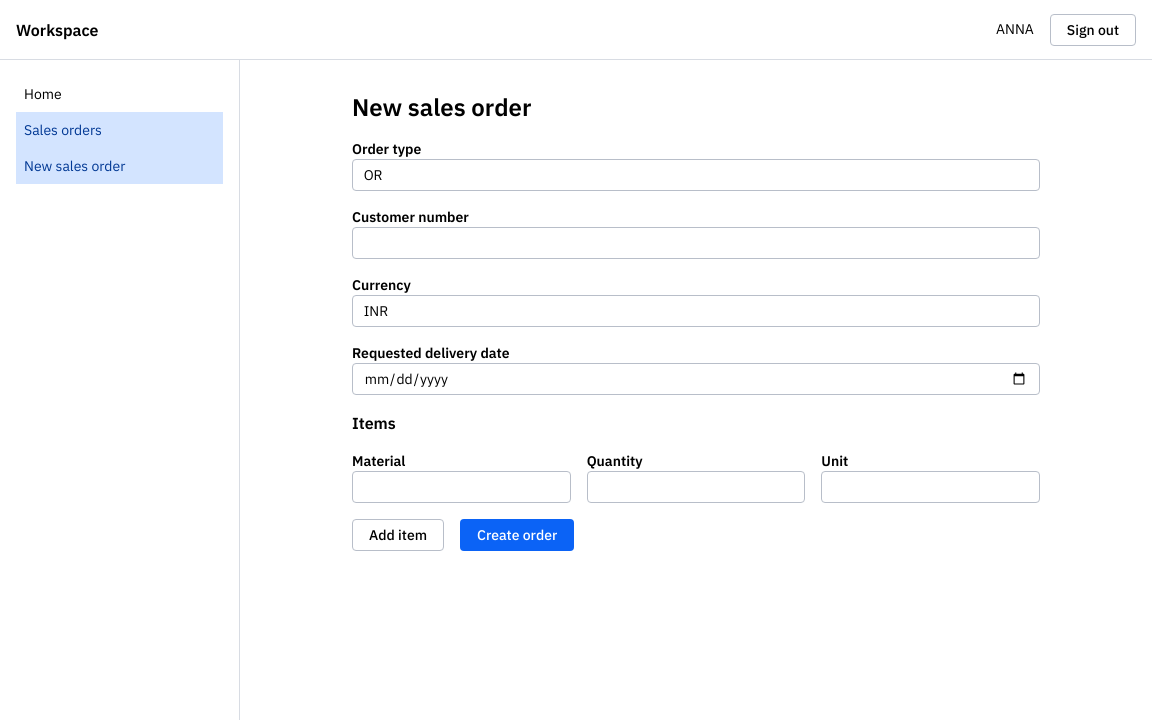
Test: validation errors › places messages on fields and in the alert, and clears them on resubmit
Click the button "Add item" at (398, 535), box [352,519,444,551]
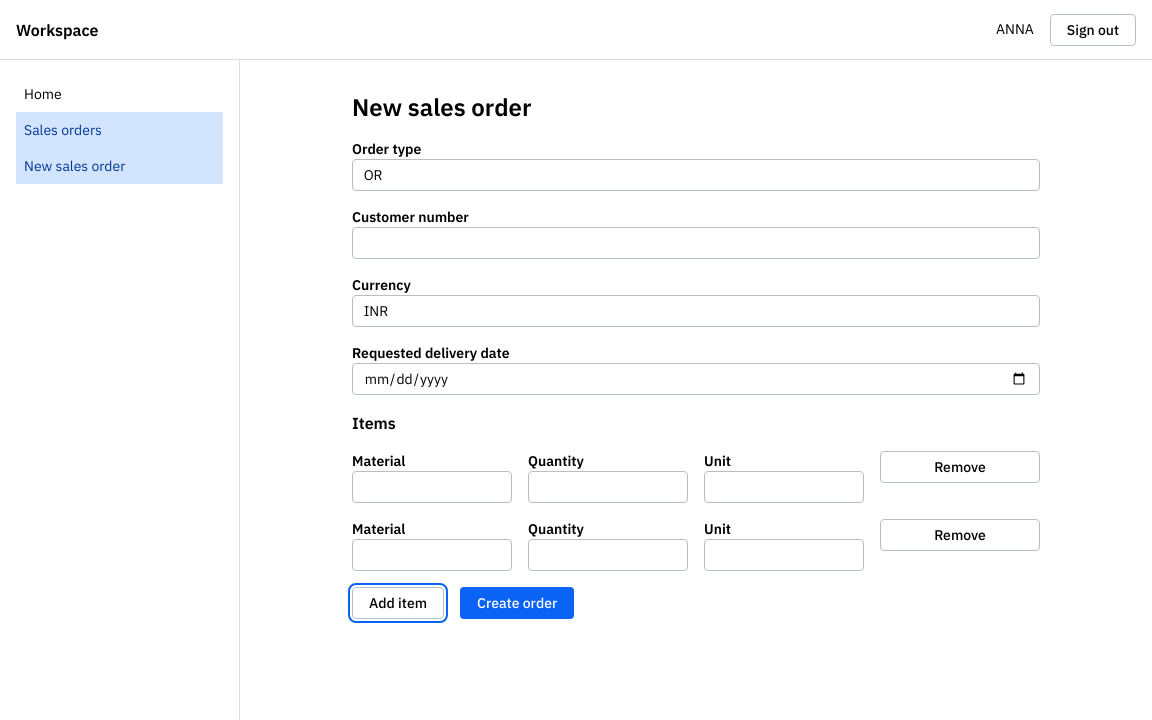
Click the button "Create order" at (517, 603), box [460,587,574,619]
(page scrolled)
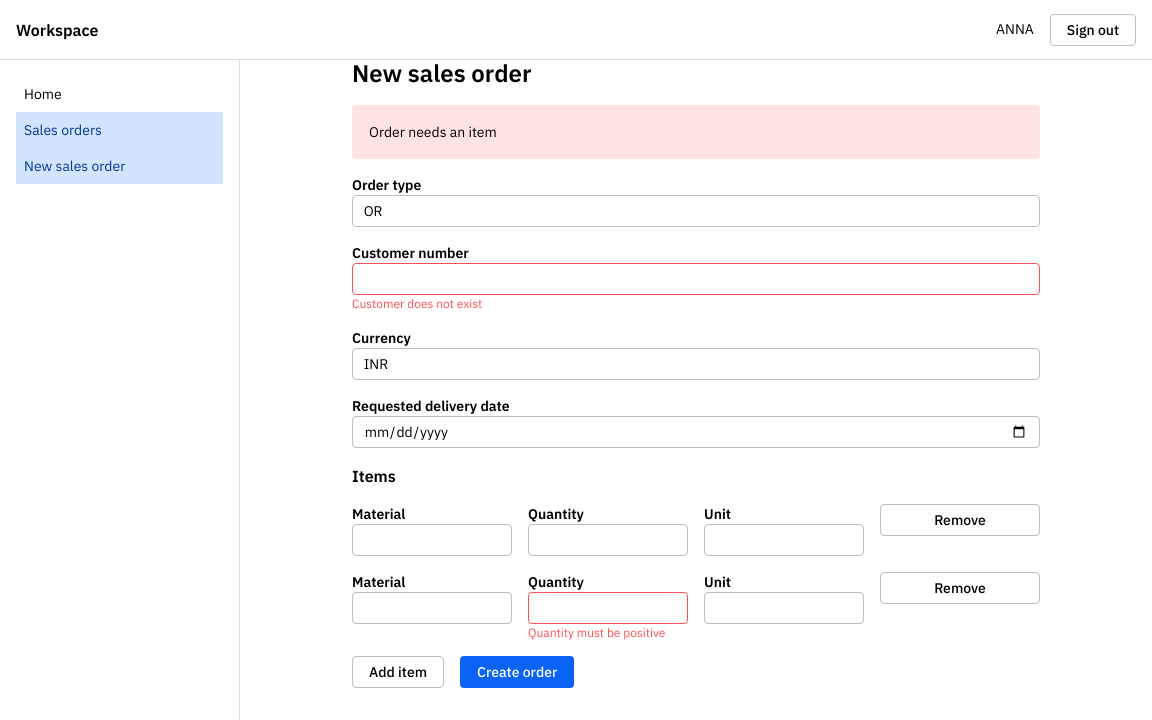
Expected: the text "Customer does not exist" is shown, [352,296,482,311]
Expected: the text "Order needs an item" is shown, [369,123,497,141]
Expected: the text "Quantity must be positive" is shown, [528,626,688,640]
Click the button "Create order" at (517, 672), box [460,656,574,688]
(page scrolled)
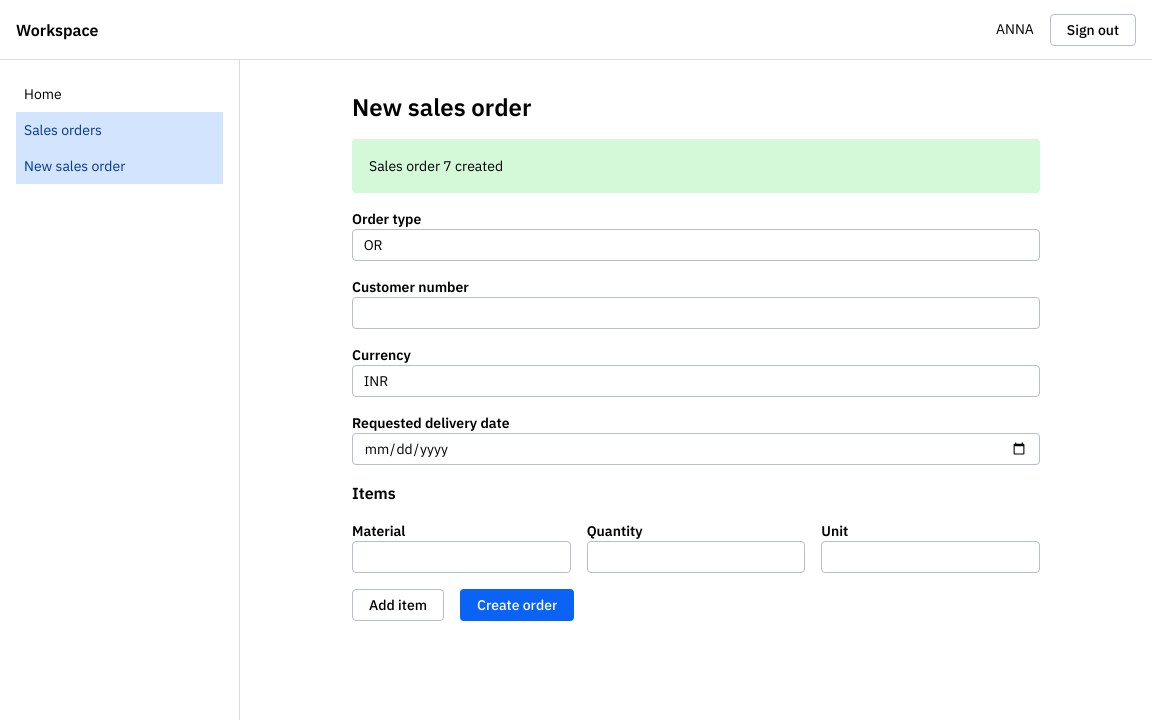
Expected: the text "Sales order 7 created" is shown, [369,157,503,175]
Expected: the text "Customer does not exist" is gone
